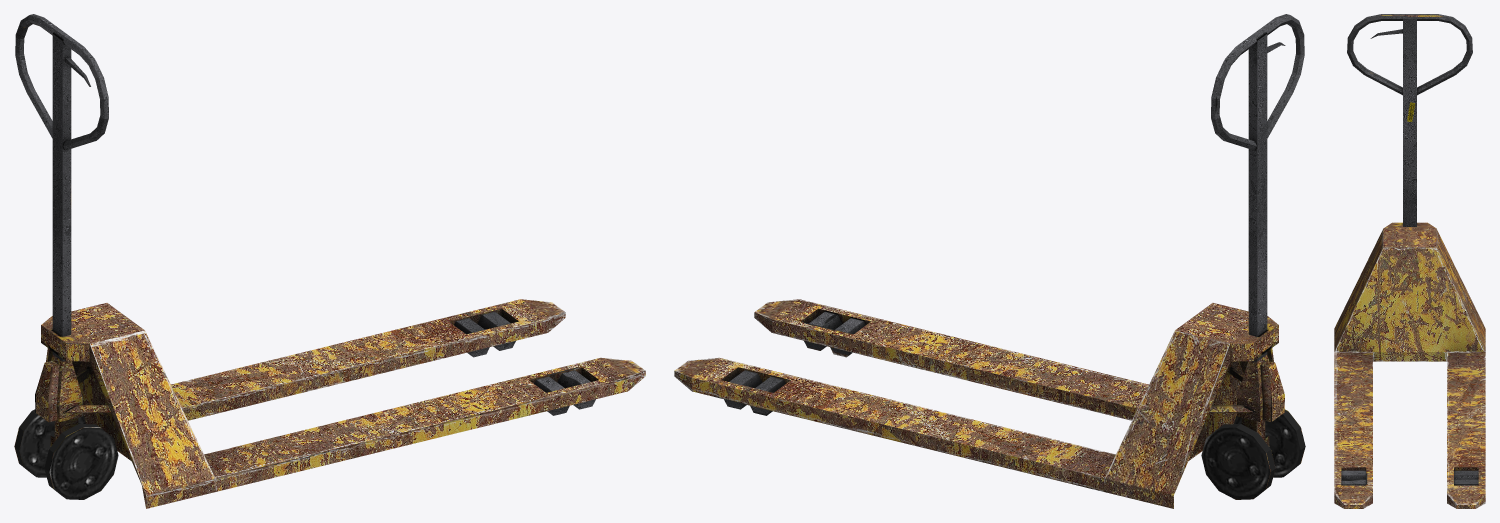
File: trans1.fbx
The picture shows the model from 3 angles, left to right: view 1: azimuth 30°, elevation 25°; view 2: azimuth 150°, elevation 25°; view 3: azimuth 270°, elevation 25°; orthographic projection. The views are drawn at different scales.
Visible parts, largest first — view 1: trans1_Layer1; view 2: trans1_Layer1; view 3: trans1_Layer1.
Part boxes in pixels (x1,y1,x2,y2): trans1_Layer1: [14, 14, 645, 508]; trans1_Layer1: [674, 14, 1305, 508]; trans1_Layer1: [1334, 14, 1485, 508].
Size of the model in its own units: 262 by 201 by 86.
1 material, 1 textured.
